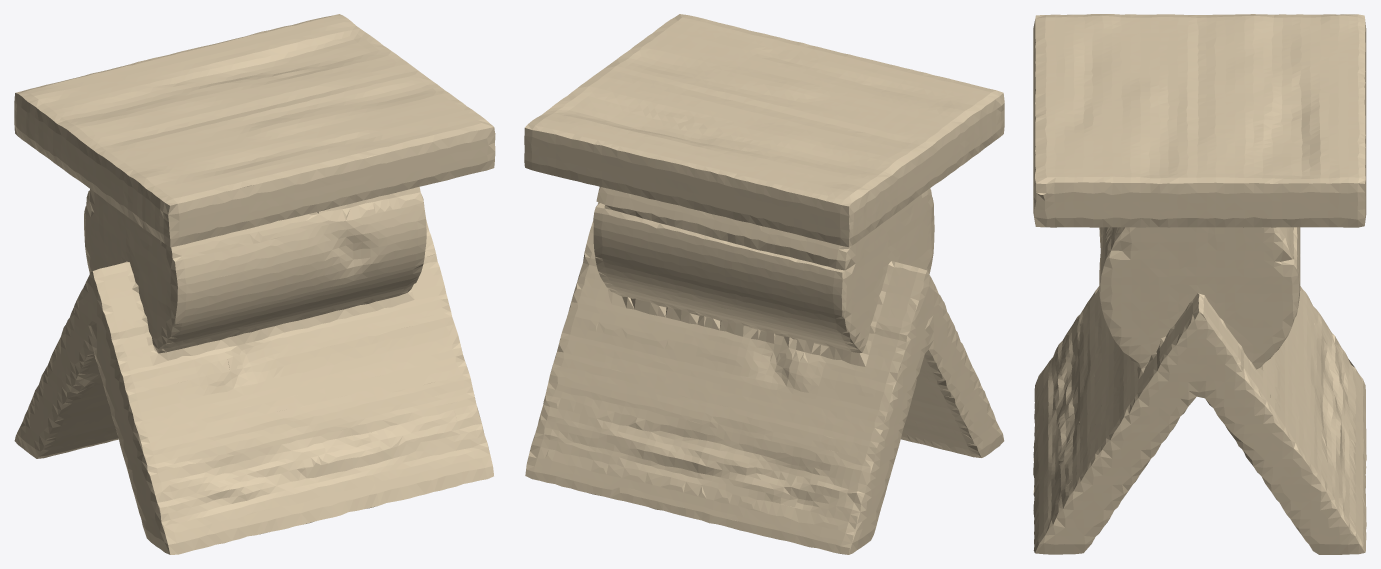
Rendered from stolform-04.glb.
3 views of the same model, side by side, from view 1: azimuth 30°, elevation 25°; view 2: azimuth 150°, elevation 25°; view 3: azimuth 270°, elevation 25° (orthographic). The views are drawn at different scales.
Visible parts, largest first — view 1: stolform-04; view 2: stolform-04; view 3: stolform-04.
Part boxes in pixels (left/top/right/bottom): stolform-04: left=14, top=14, right=495, bottom=554; stolform-04: left=524, top=14, right=1004, bottom=554; stolform-04: left=1033, top=14, right=1366, bottom=554.
Bounding box in the file's own units: 0.9748 × 0.9997 × 0.802.
